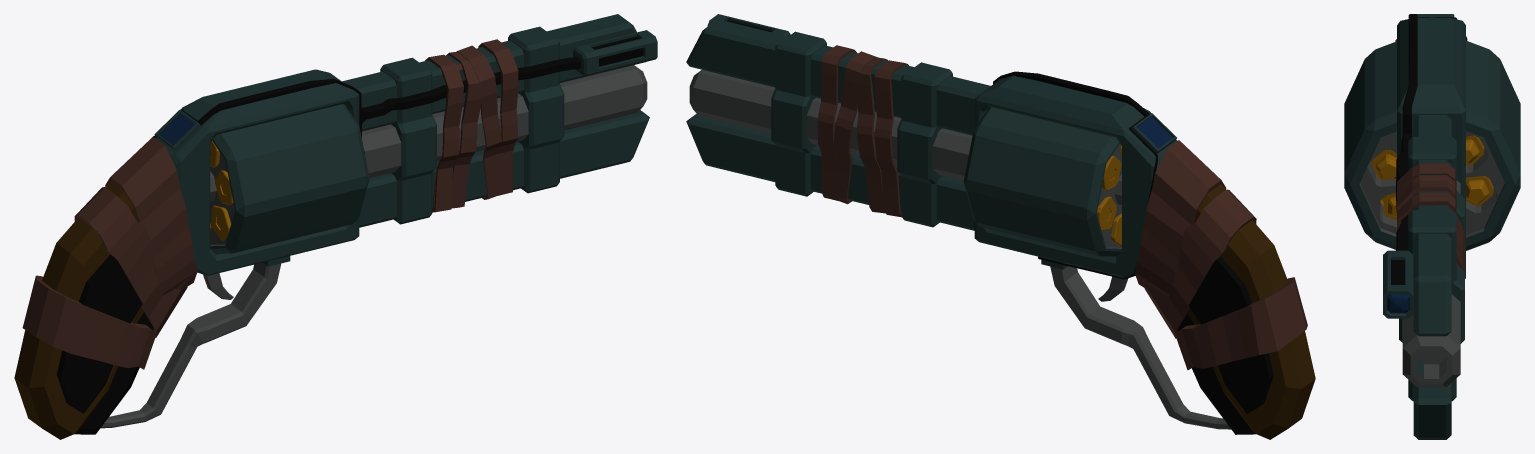
File: DRG_revolver_6.fbx
3 views of the same model, side by side, from view 1: azimuth 30°, elevation 25°; view 2: azimuth 150°, elevation 25°; view 3: azimuth 270°, elevation 25° (orthographic). The views are drawn at different scales.
Parts seen in each view (by area): view 1: gun, mag; view 2: gun, mag; view 3: gun, mag.
Boxes of the visible parts, x1=… form: gun: x1=14, y1=14, x2=657, y2=439; mag: x1=210, y1=104, x2=369, y2=253; gun: x1=686, y1=14, x2=1315, y2=439; mag: x1=963, y1=107, x2=1121, y2=256; gun: x1=1383, y1=14, x2=1467, y2=439; mag: x1=1344, y1=40, x2=1520, y2=250.
Size of the model in its own units: 2947 by 1383 by 612.
